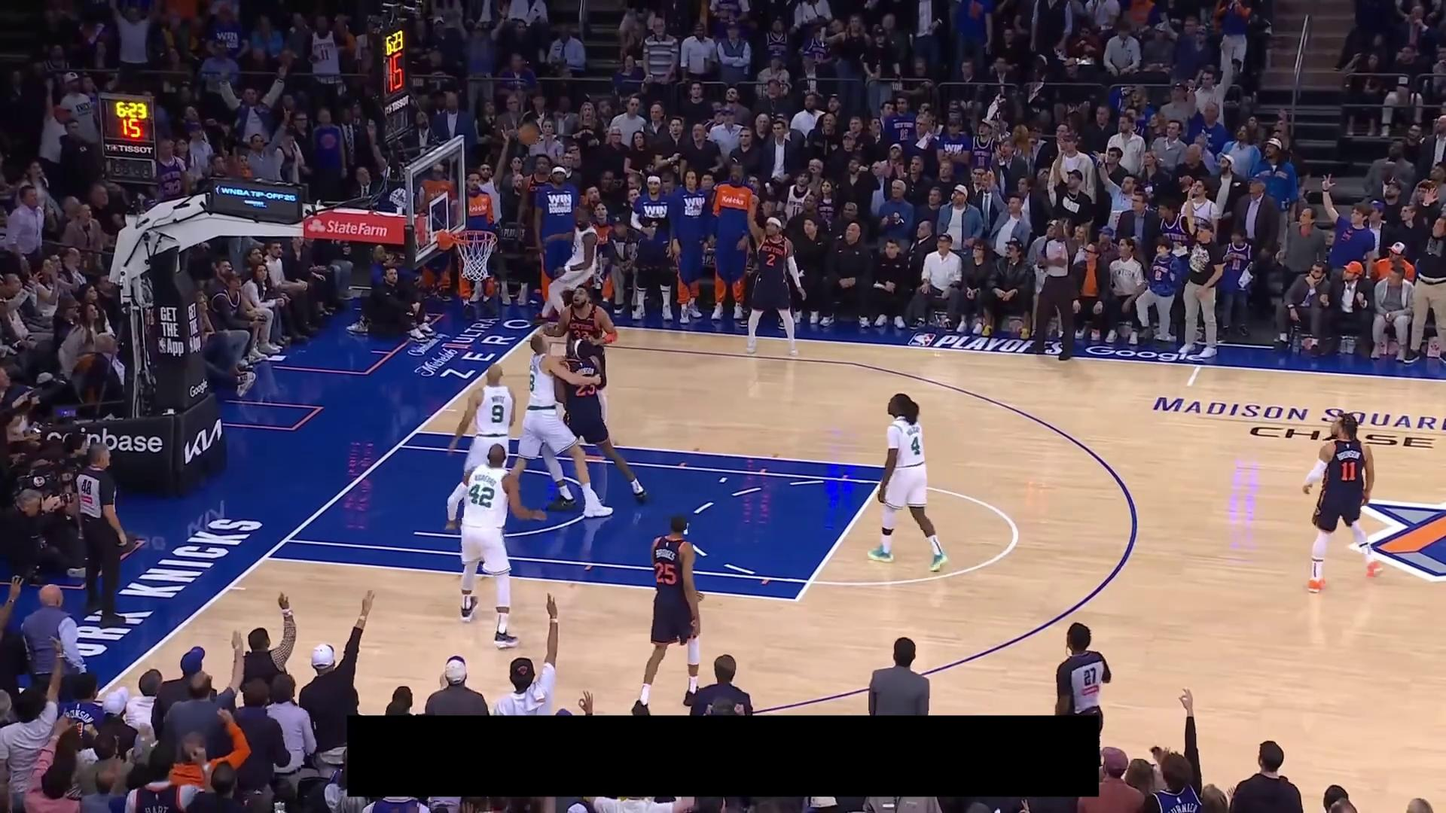ball: (517, 123, 541, 146)
number: (468, 483, 496, 509), (654, 562, 677, 586), (575, 378, 598, 396), (1340, 461, 1357, 483), (490, 403, 505, 425), (574, 328, 590, 342), (911, 436, 922, 455), (528, 372, 537, 393), (766, 252, 776, 266), (570, 242, 578, 257)
player: (444, 442, 547, 650), (508, 332, 613, 517), (541, 339, 650, 512), (1301, 410, 1383, 595), (631, 513, 706, 714), (868, 393, 947, 573), (542, 283, 620, 428), (740, 204, 807, 357), (532, 205, 600, 326), (448, 362, 517, 479)
referee: (69, 442, 131, 628), (1051, 622, 1112, 791), (1026, 219, 1092, 361)
rim: (452, 228, 498, 245)
